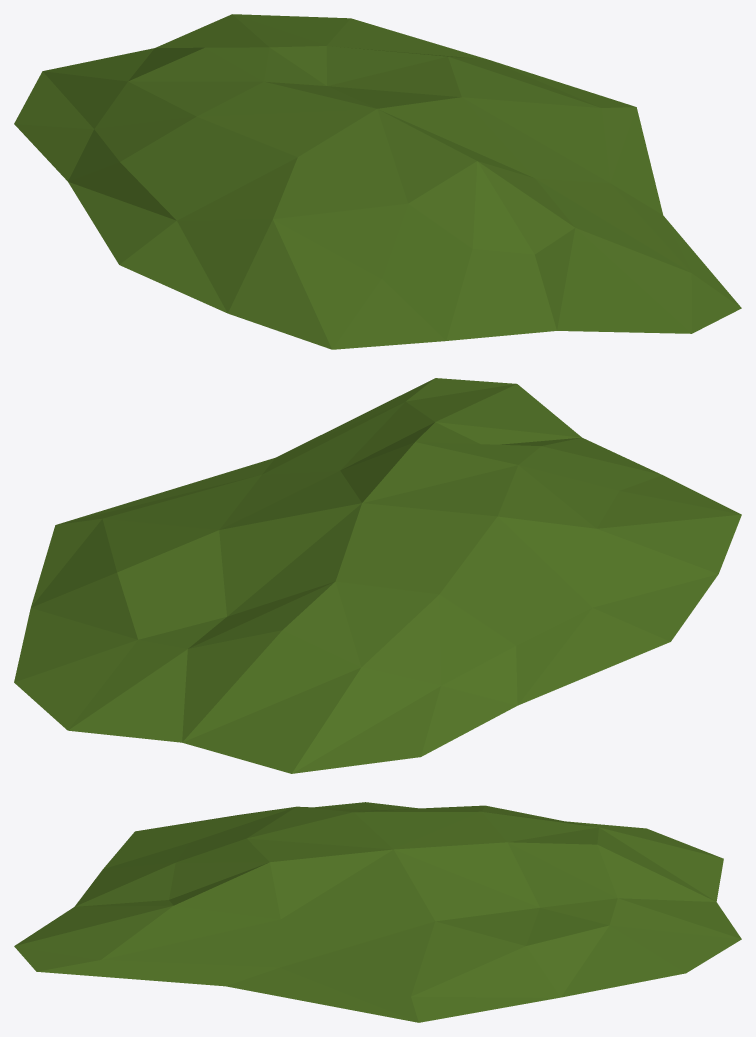
The model's file is co_Hillock_B_03.fbx.
3 views of the same model, one above another, from view 1: azimuth 30°, elevation 25°; view 2: azimuth 150°, elevation 25°; view 3: azimuth 270°, elevation 25° (orthographic). The views are drawn at different scales.
Parts seen in each view (by area): view 1: Hillock_B_03; view 2: Hillock_B_03; view 3: Hillock_B_03.
Boxes of the visible parts, box(x1,y1,x2,y2) form: Hillock_B_03: box(14, 14, 741, 349); Hillock_B_03: box(14, 378, 741, 773); Hillock_B_03: box(14, 802, 741, 1022).
Size of the model in its own units: 16548 by 2202 by 23062.
